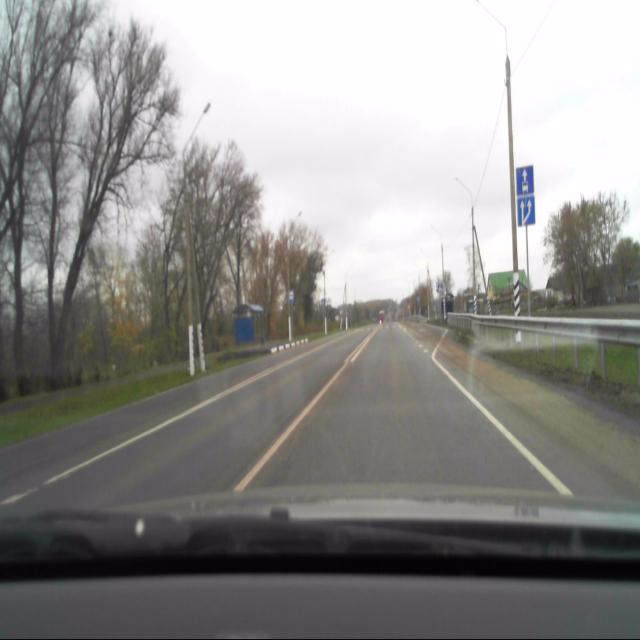road sign: (516, 195, 536, 227), (515, 164, 534, 196)
